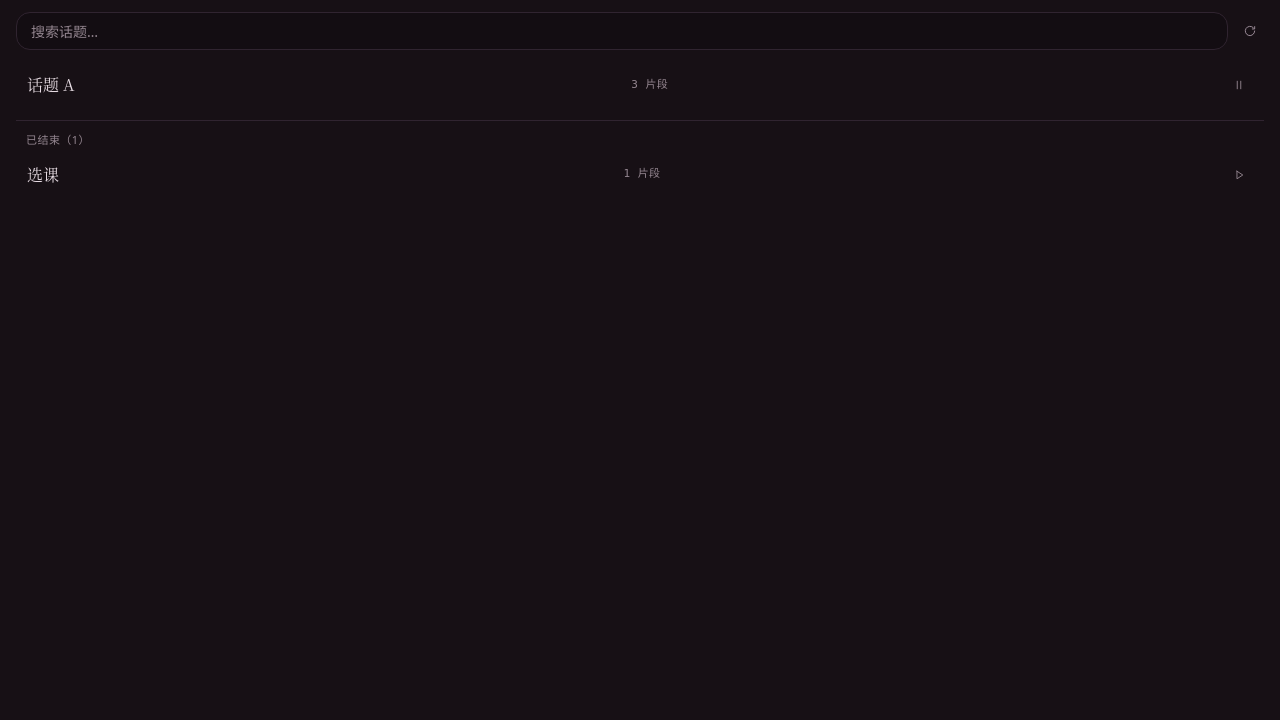
Test: 记忆标签页：完整讨论记录 › 记录读取失败：原因可见并可重试
Click the option "话题 A 3 片段".
click(640, 85)  # box [16,62,1264,108]
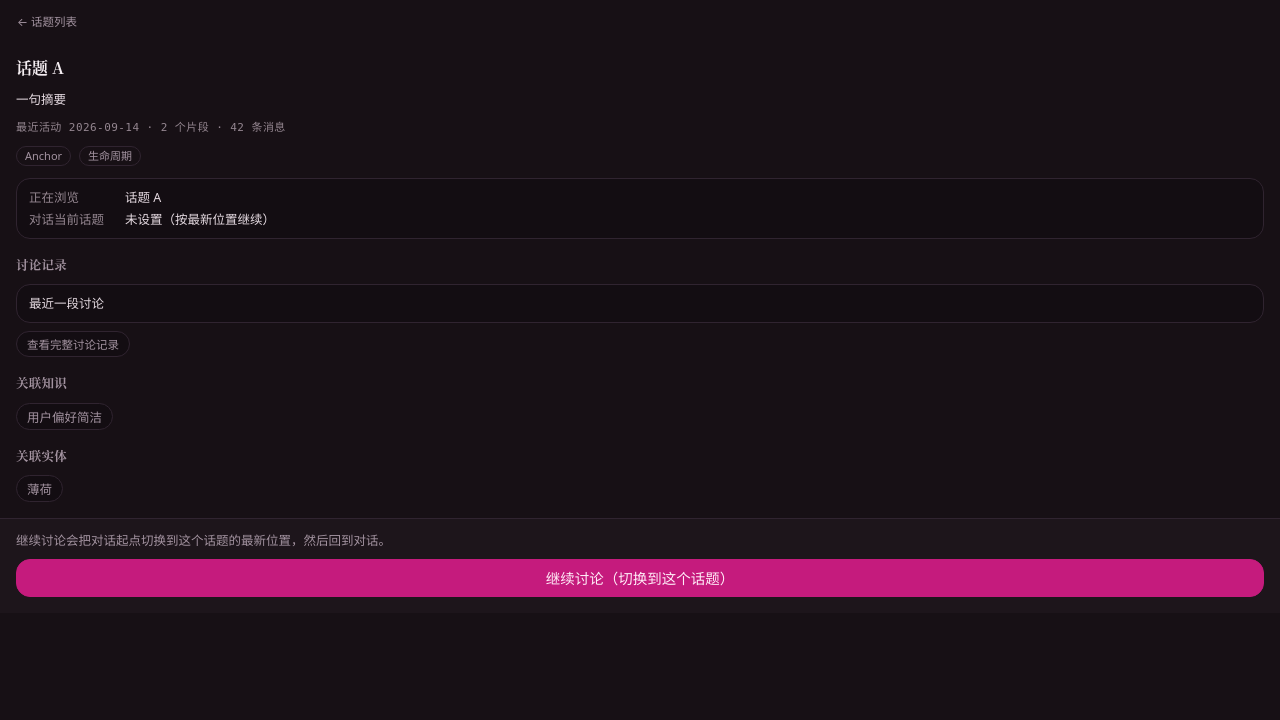
Click the button with class "mt-open-record".
click(73, 344)  # box [16,331,130,357]
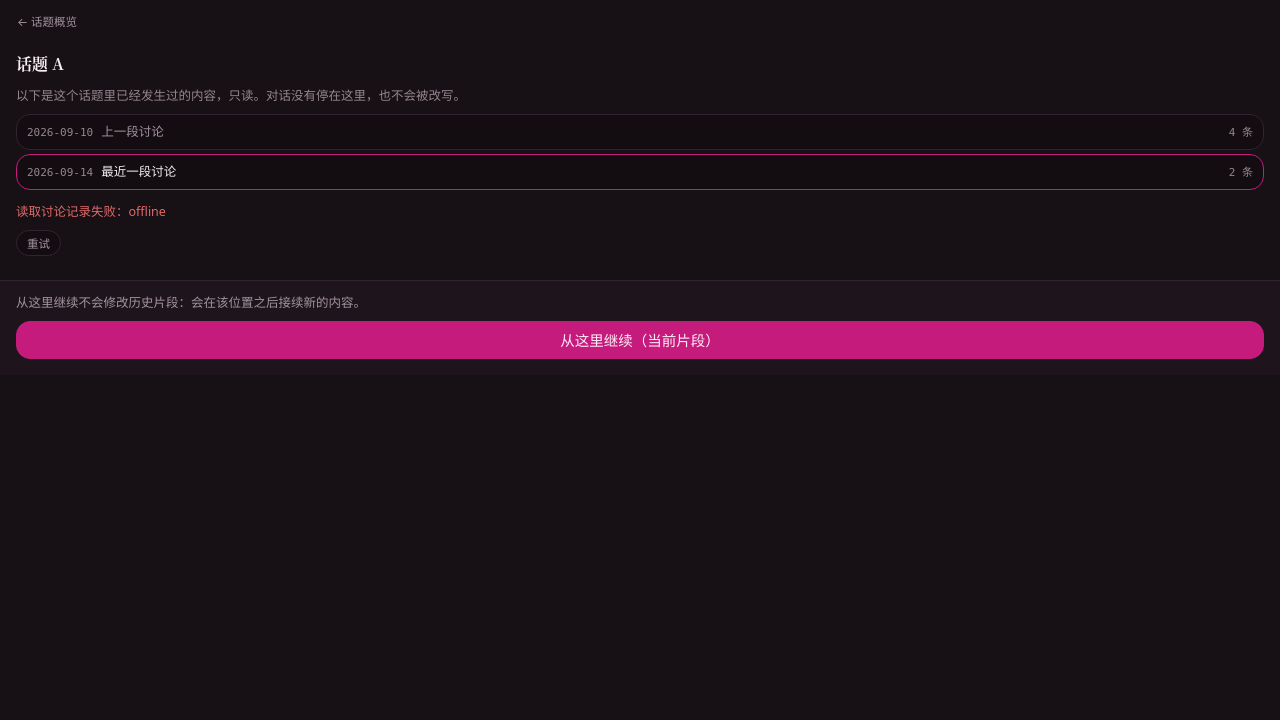
Check: the message "读取讨论记录失败：offline 重试" is shown, box [16,203,166,256]
Click the button "重试".
click(38, 243)  # box [16,230,61,256]
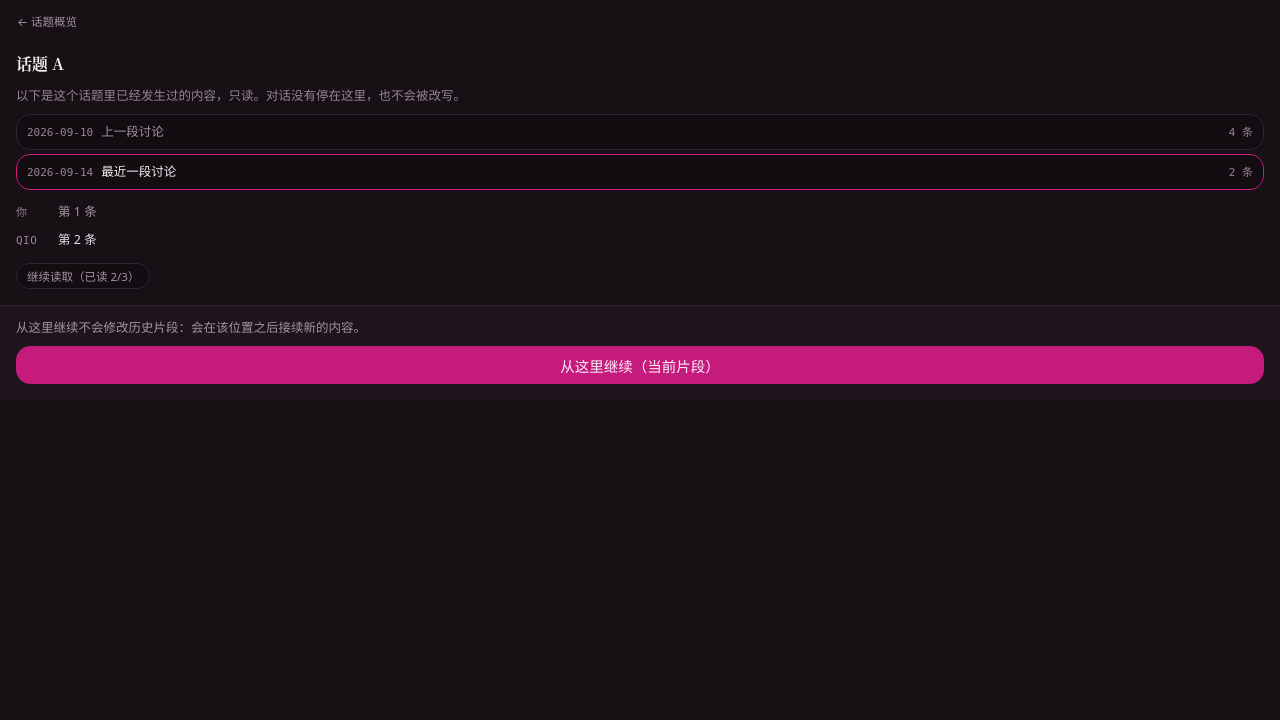
Check: the list item with class "raw-item" showing "你 第 1 条" is shown, box [16,203,97,220]
